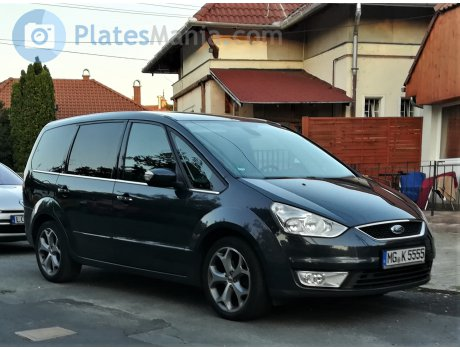License Plates: (394, 246, 425, 259)
